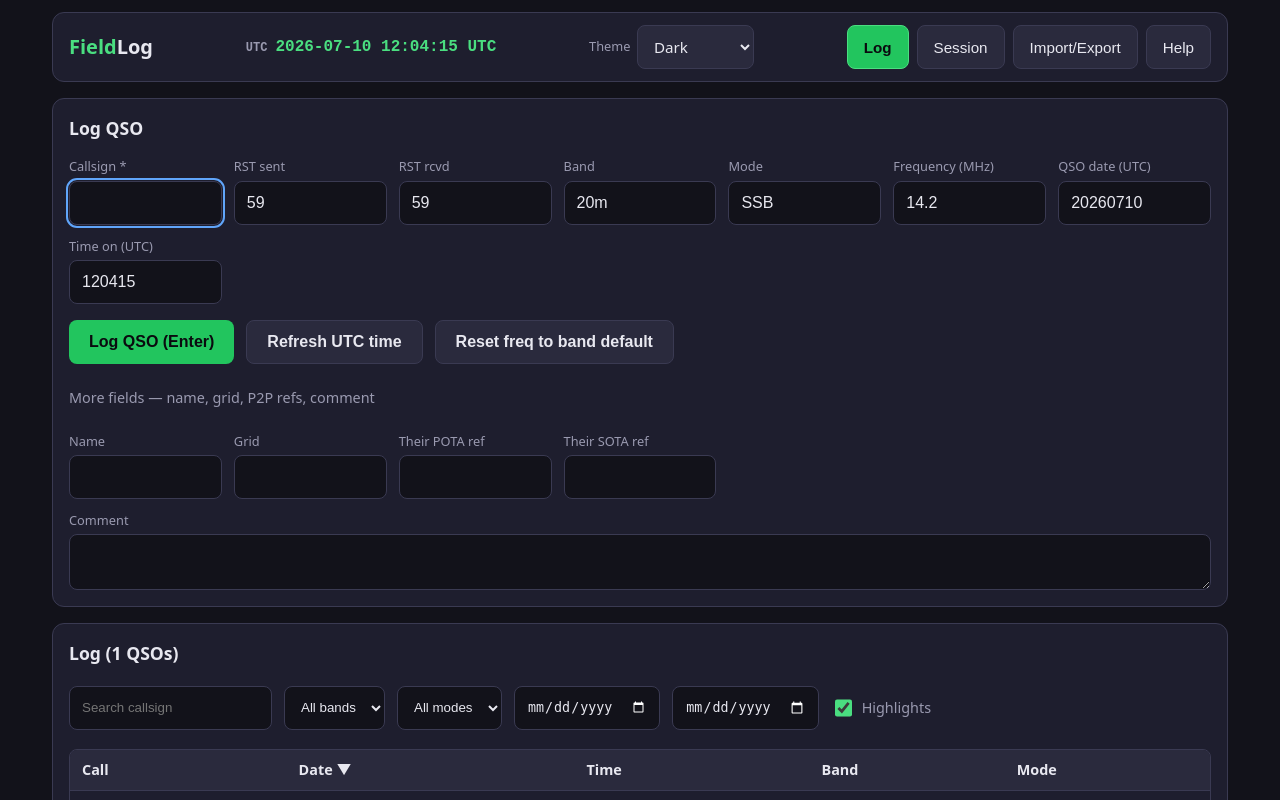
persistence failures › keeps the edit dialog and draft open when an update fails
Step 1. Click the checkbox labelled "Highlights" → [844, 708], box 835,686 -> 852,730
(page scrolled)
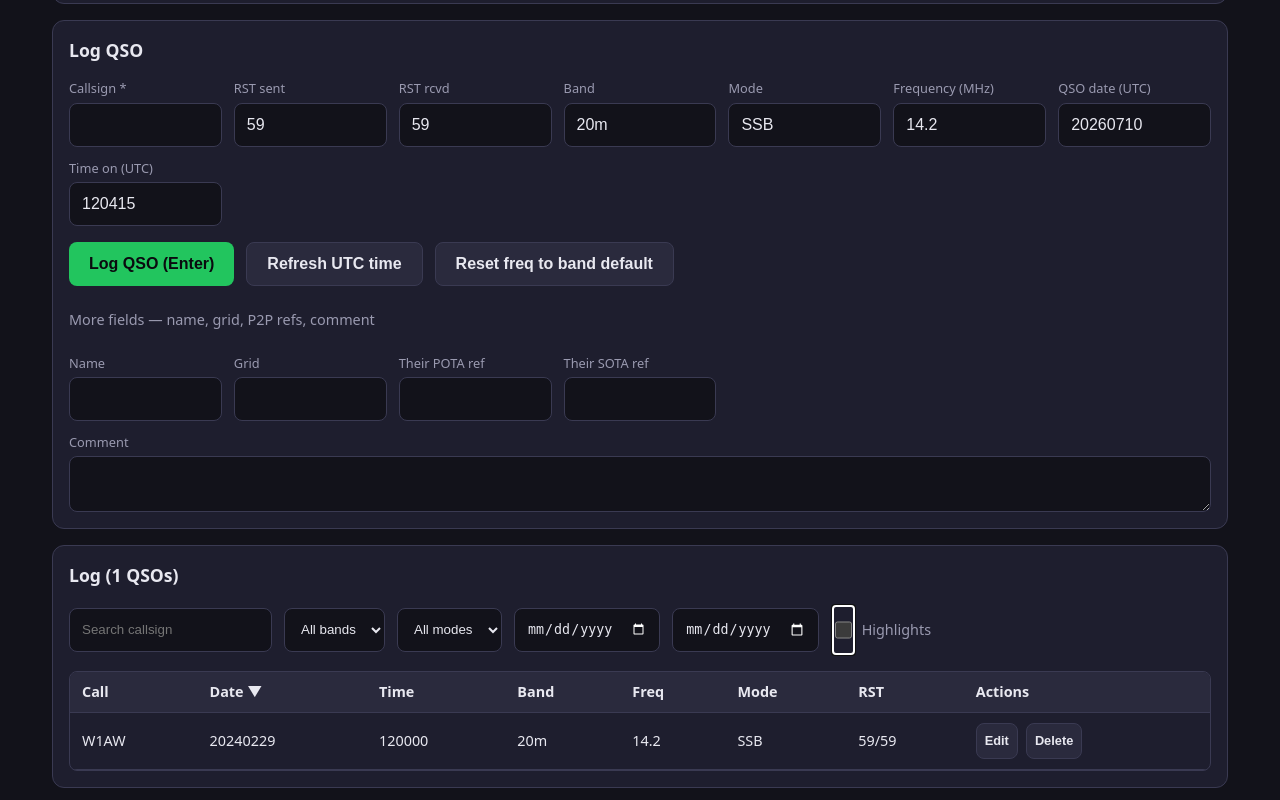
Step 2. Click the button "Edit" → [997, 741], box 976,723 -> 1018,759
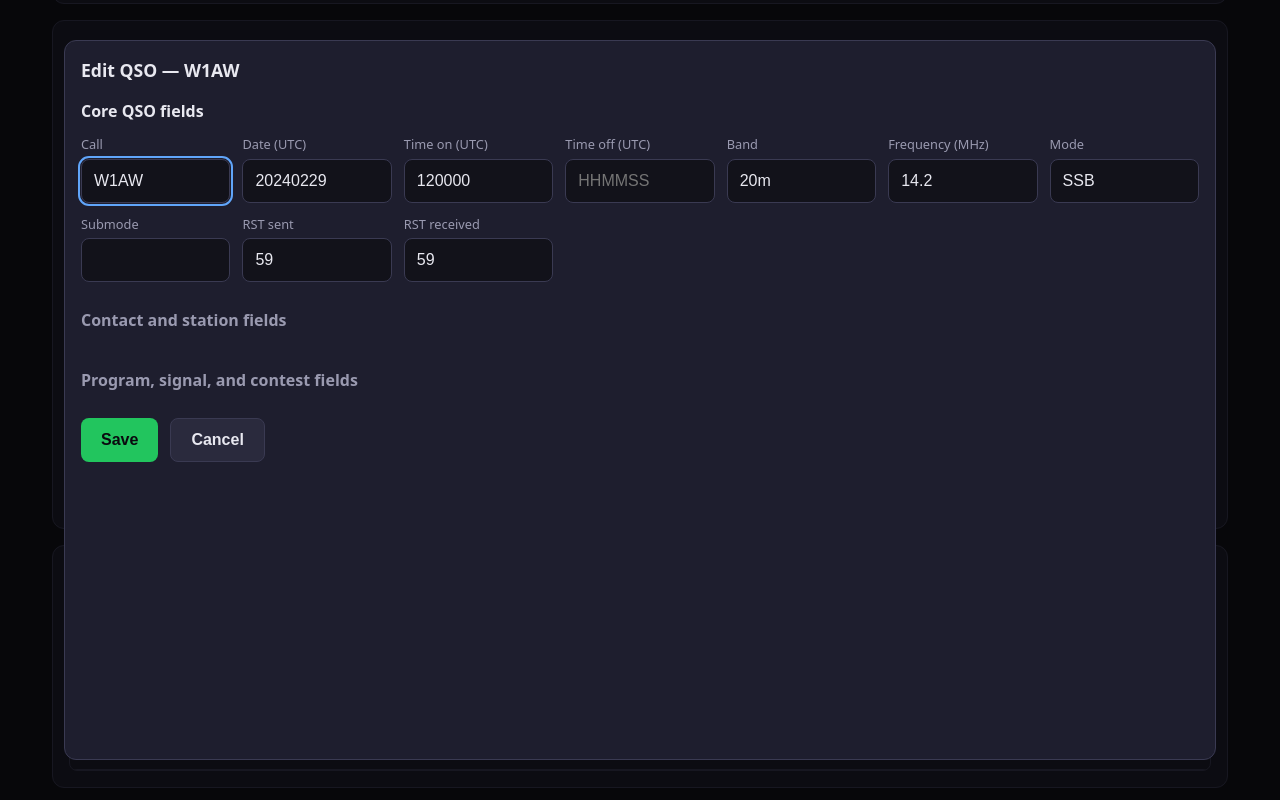
Step 3. Replace the text in the field labelled "Call" with "K1ABC" → [156, 181], box 81,159 -> 230,203
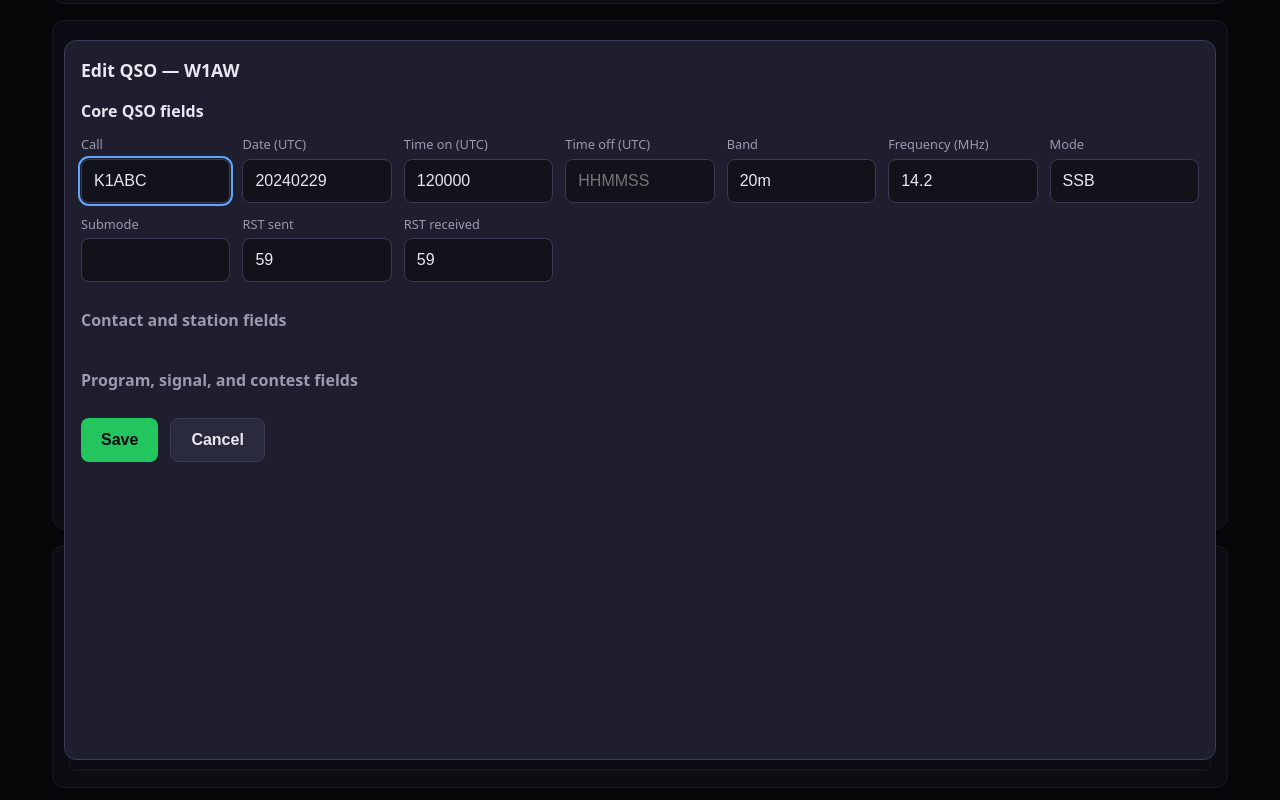
Step 4. Click the button "Save" → [120, 440], box 81,418 -> 158,462
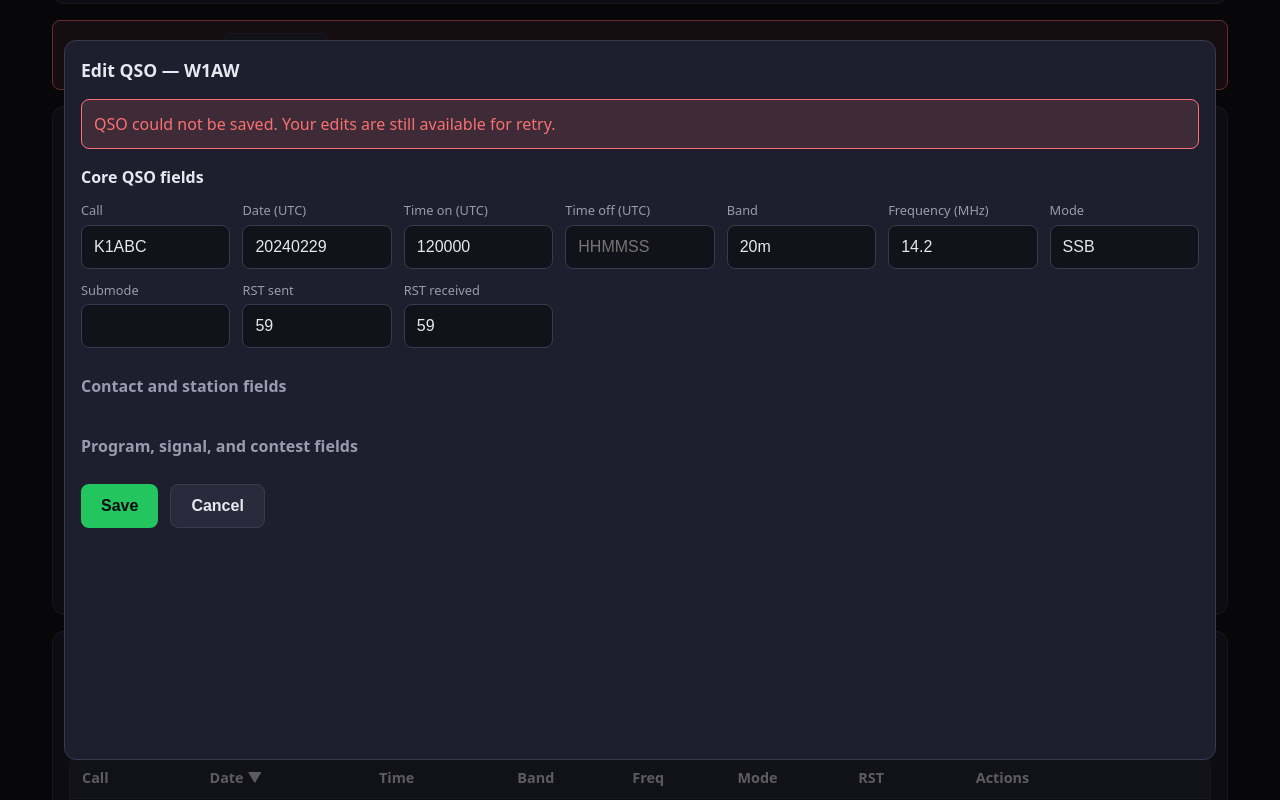
Expected: the text "Update write failed" is shown, 65,43 -> 208,65
Now the dialog is shown
Now the text "QSO could not be saved. Your edits are still available for retry." is shown, box 81,99 -> 1199,149
